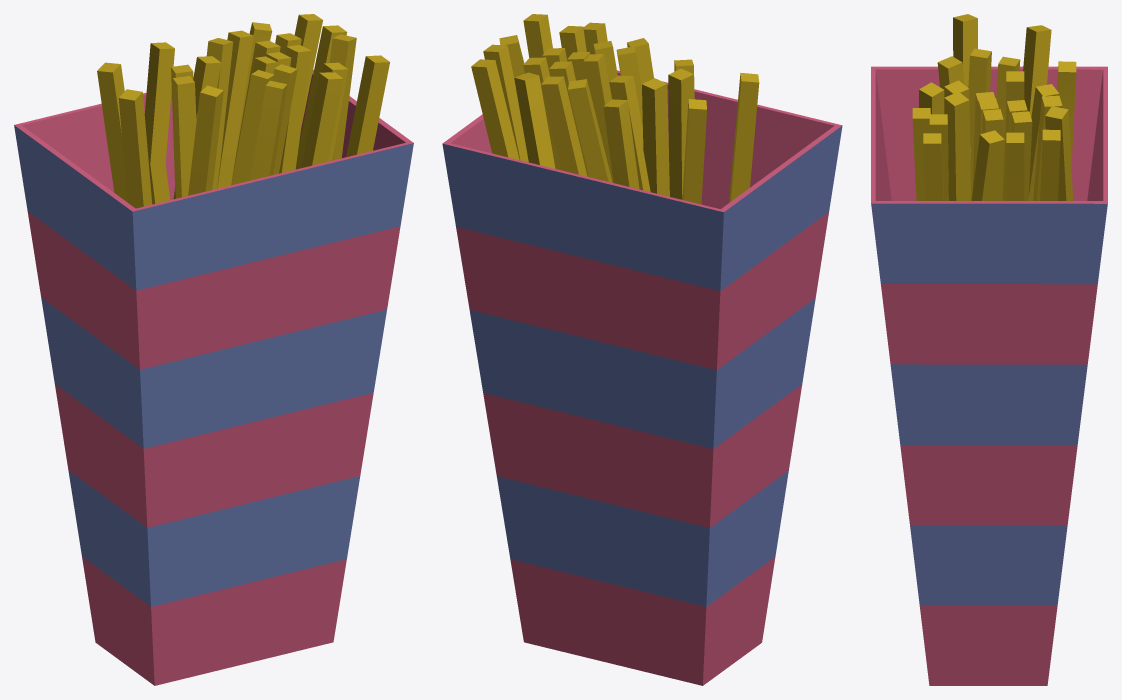
Rendered from potato.fbx.
3 views of the same model, side by side, from view 1: azimuth 30°, elevation 25°; view 2: azimuth 150°, elevation 25°; view 3: azimuth 270°, elevation 25° (orthographic).
Parts seen in each view (by area): view 1: pCube27; view 2: pCube27; view 3: pCube27.
Part boxes in pixels (x1,y1,x2,y2): pCube27: (14,14,413,685); pCube27: (442,14,842,685); pCube27: (871,14,1107,685).
Bounding box in the file's own units: 1.21 × 0.8764 × 2.37.
